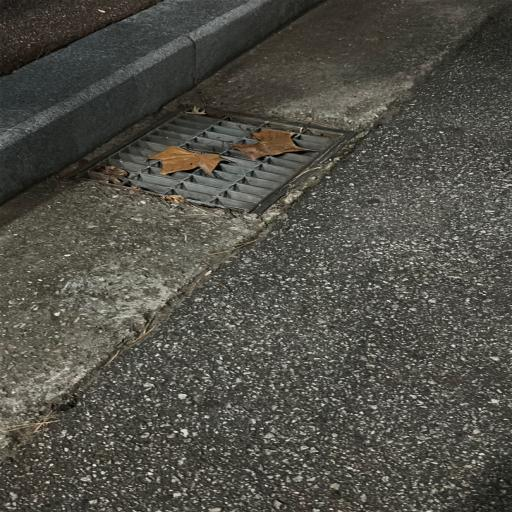debris: (230, 124, 302, 159), (147, 144, 222, 175), (88, 161, 126, 184), (176, 107, 200, 117), (206, 109, 231, 116), (296, 164, 310, 174), (323, 133, 337, 139)
drain: (74, 105, 344, 213)
